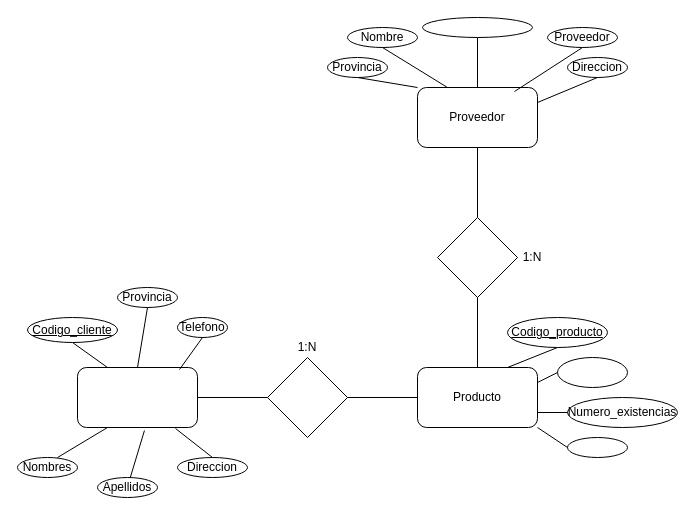
Some shapes in this 695 by 515 pixel diagram are drawn without their labels. The shapes that lost their labels are listed below. From the top down, each one's centre as x and y in pixels, then its label:
At [477,27]: "Codigo_proveedor".
At [477,257]: "Suministra".
At [592,372]: "Descripcion".
At [137,397]: "Cliente".
At [307,397]: "Compra".
At [597,447]: "Precio".
